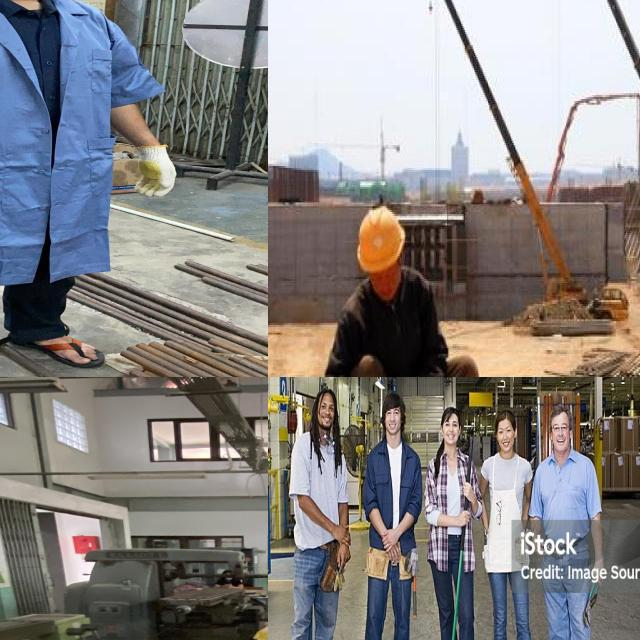face_nomask: (365, 263, 403, 303)
hand_glove: (115, 144, 192, 201), (250, 626, 268, 640)
head_helmet: (353, 204, 406, 273)
person: (0, 0, 176, 377), (321, 204, 486, 377), (276, 386, 351, 640), (530, 407, 605, 640), (362, 397, 425, 640), (478, 408, 540, 640), (419, 407, 475, 640)
